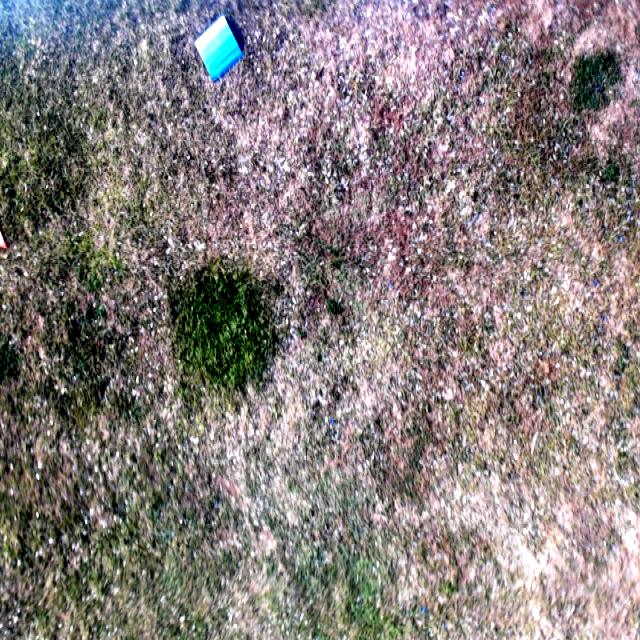blue_square: (196, 17, 243, 82)
